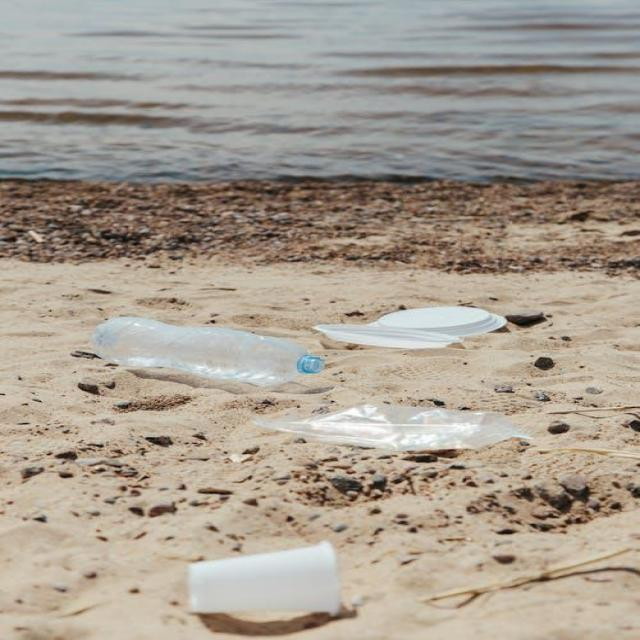cardboard: (187, 556, 352, 622)
plastic: (87, 302, 343, 406), (265, 382, 536, 476), (320, 294, 511, 355)
